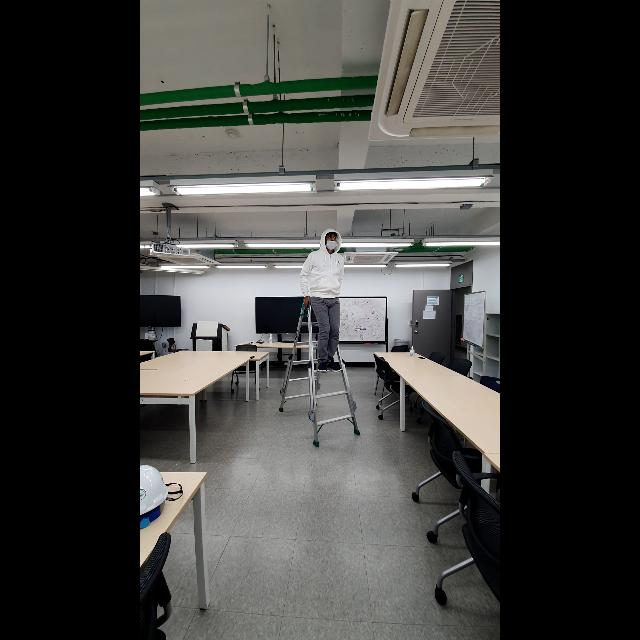hard hat: (278, 297, 364, 451)
vest: (300, 228, 346, 372)
